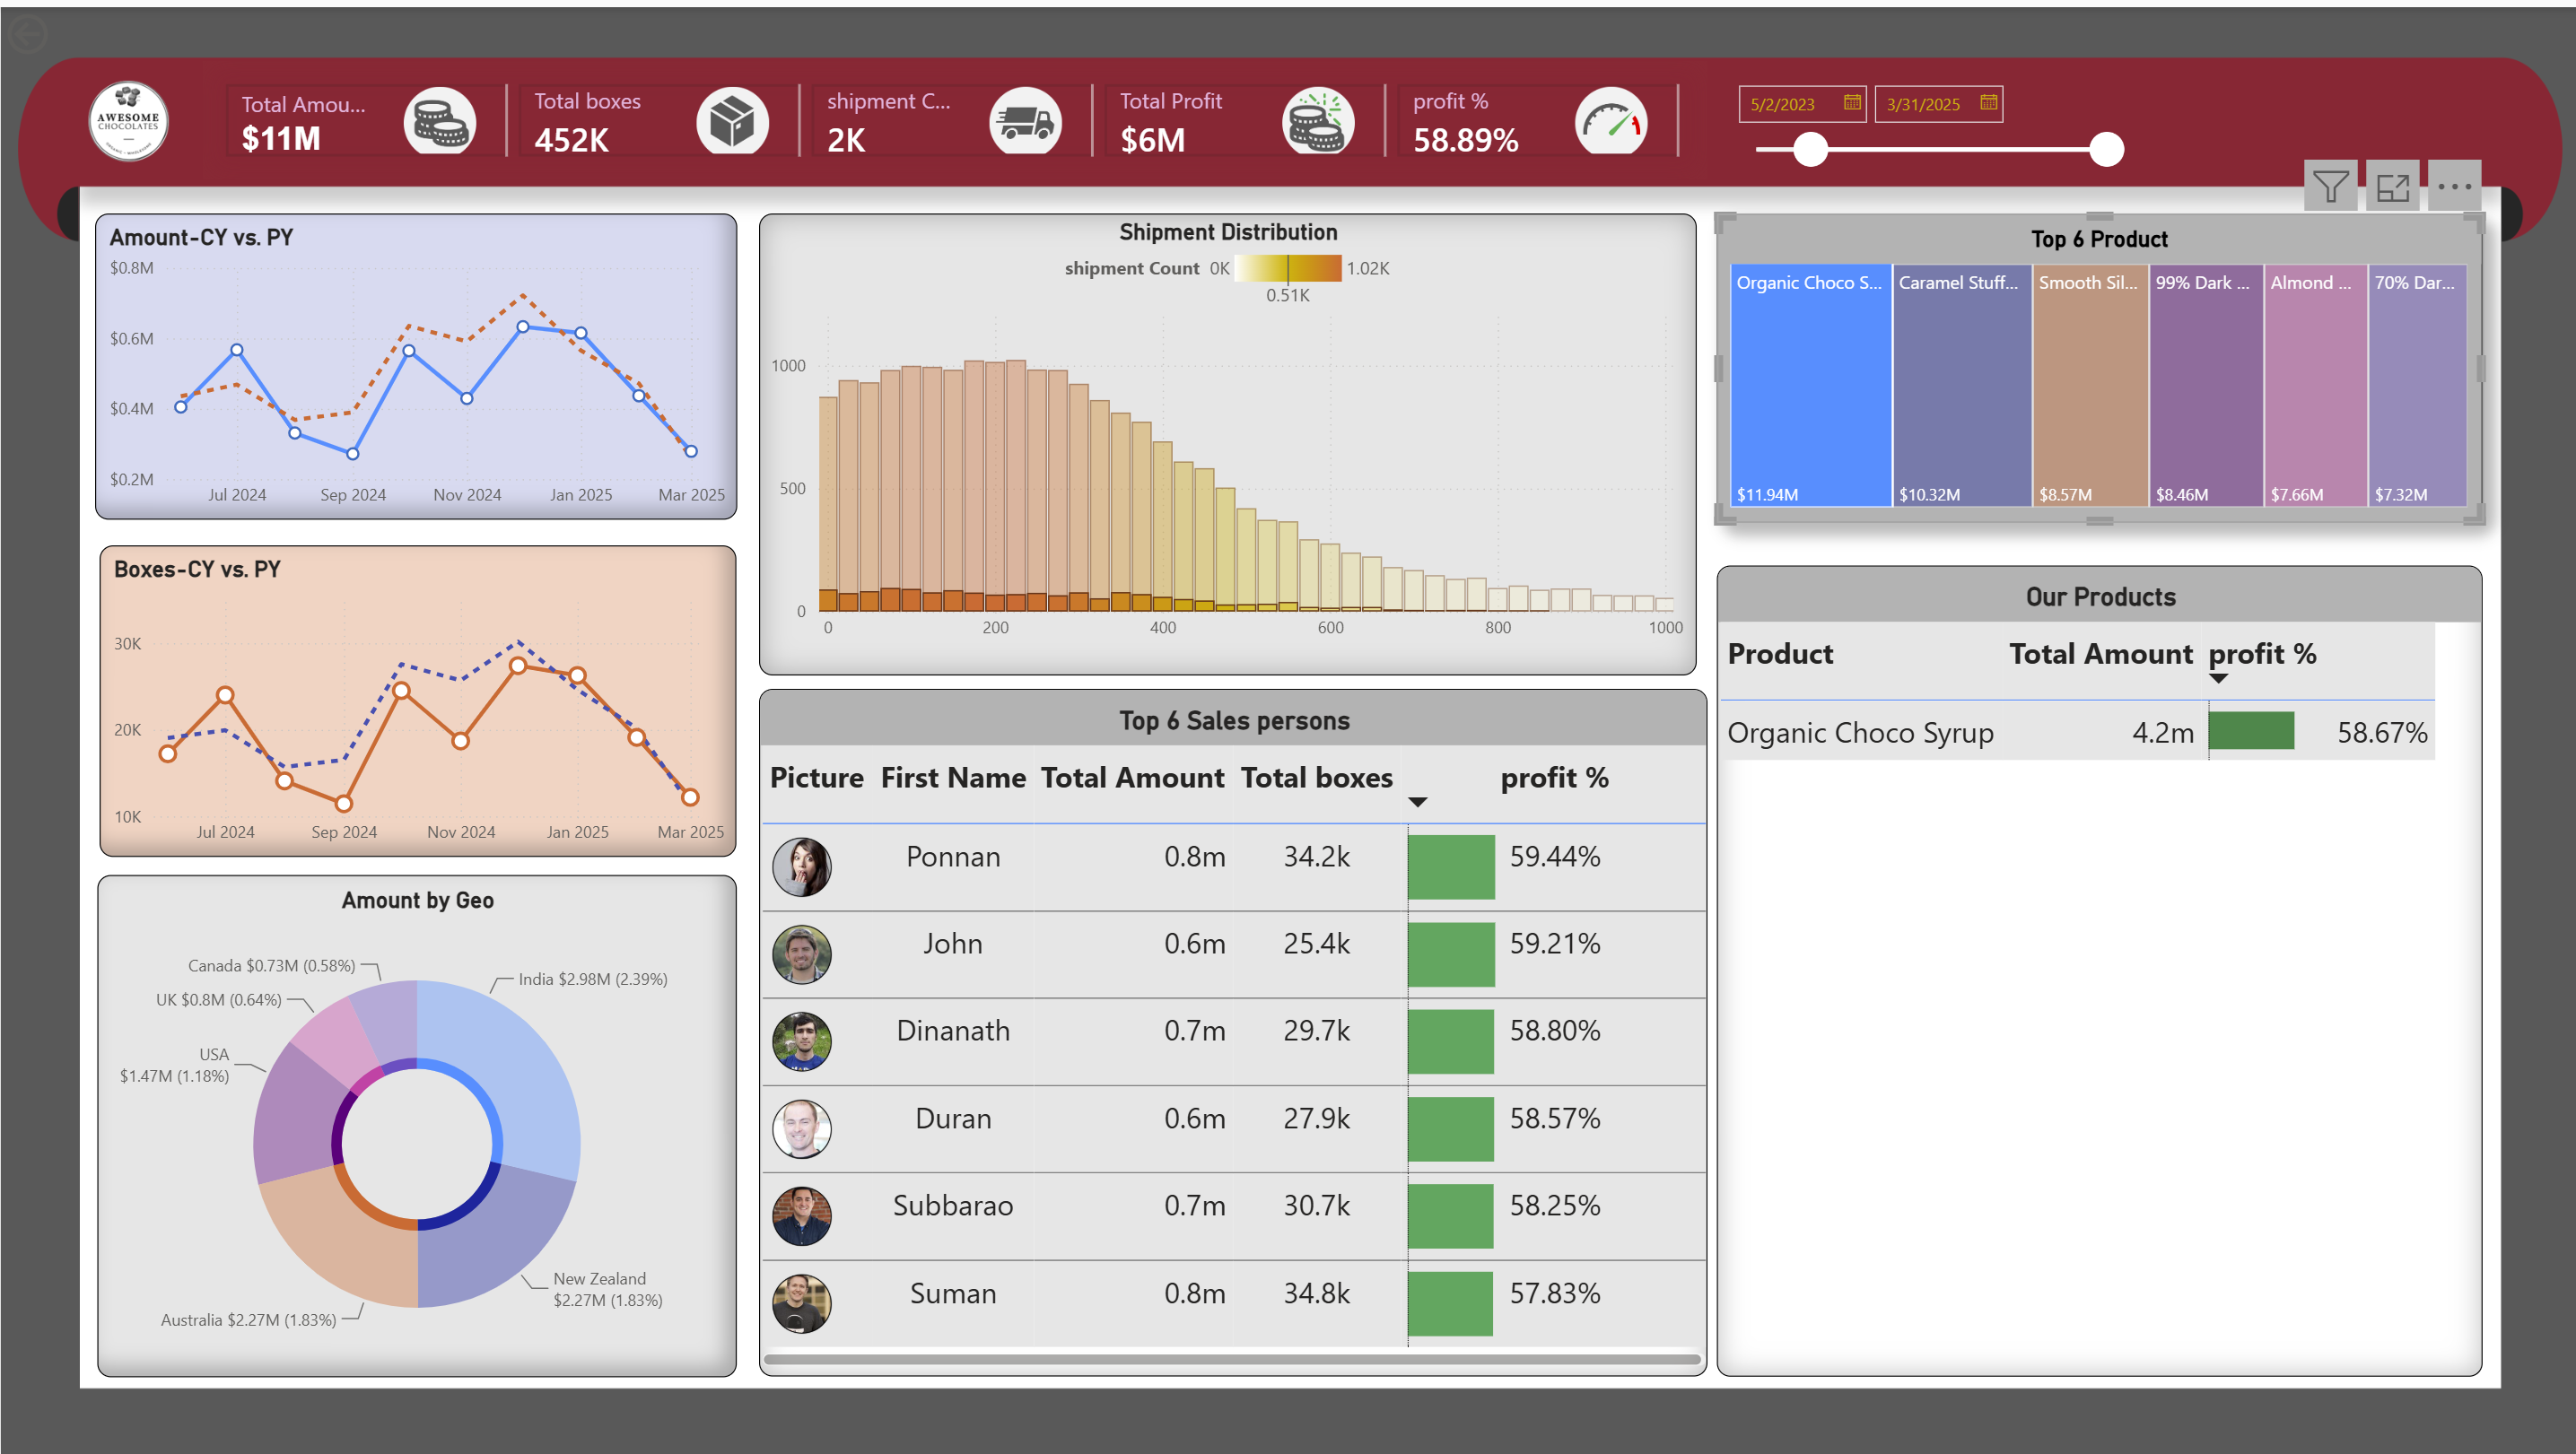

The page's visual inventory and layout, read from the dashboard file:
{"tool":"powerbi","page":{"name":"Page 8","canvas":[1920,1080],"ordinal":7},"visuals":[{"type":"lineChart","title":"Amount-CY vs. PY","fields":{"Y":["shipments.Total Amount","shipments.Total amount(last year)"],"Category":["calendar.Start of Month"]},"box":[70,154,478,228],"z":0},{"type":"lineChart","title":"Boxes-CY vs. PY","fields":{"Category":["calendar.Start of Month"],"Y":["shipments.Total boxes","calendar.Total Boxes(last year)"]},"box":[74,400,474,232],"z":1000},{"type":"donutChart","title":"Amount by Geo","fields":{"Category":["locations.Geo"],"Y":["shipments.Total Amount"]},"box":[72,646,476,374],"z":2000},{"type":"clusteredColumnChart","title":"Shipment Distribution","fields":{"Category":["shipments.Boxes (bins)"],"Y":["shipments.shipment Count"]},"box":[564,154,698,344],"z":3000},{"type":"tableEx","title":"Top 6 Sales persons","fields":{"Values":["people.Picture","people.First Name","shipments.Total Amount","shipments.Total boxes","shipments.profit %"]},"box":[564,508,706,512],"z":4000},{"type":"treemap","title":"Top 6 Product","fields":{"Values":["shipments.Total Amount"],"Group":["products.Product"]},"box":[1278,154,570,230],"z":5000},{"type":"actionButton","box":[0,0,100,40],"z":6000},{"type":"tableEx","title":"Our Products","fields":{"Values":["products.Product","shipments.Total Amount","shipments.profit %"]},"box":[1278,416,570,604],"z":7000},{"type":"cardVisual","fields":{"Data":["shipments.Total Amount","shipments.Total boxes","shipments.shipment Count","shipments.Total Profit","shipments.profit %"]},"box":[150,40,1120,88],"z":8000},{"type":"slicer","fields":{"Values":["calendar.cal_date"]},"box":[1280,48,308,72],"z":9000}]}

Visuals, with their boxes in screenshot pixels (x1, y1, x2, y2), scaled from the page's 1920x1080 canvas onto the 2576x1454 screenshot:
"Amount-CY vs. PY" lineChart: {"x1": 94, "y1": 207, "x2": 735, "y2": 514}
"Boxes-CY vs. PY" lineChart: {"x1": 100, "y1": 538, "x2": 735, "y2": 851}
"Amount by Geo" donutChart: {"x1": 97, "y1": 870, "x2": 735, "y2": 1373}
"Shipment Distribution" clusteredColumnChart: {"x1": 756, "y1": 207, "x2": 1693, "y2": 670}
"Top 6 Sales persons" tableEx: {"x1": 756, "y1": 683, "x2": 1704, "y2": 1373}
"Top 6 Product" treemap: {"x1": 1715, "y1": 207, "x2": 2479, "y2": 517}
actionButton: {"x1": 0, "y1": 0, "x2": 135, "y2": 54}
"Our Products" tableEx: {"x1": 1715, "y1": 560, "x2": 2479, "y2": 1373}
cardVisual - shipments.Total Amount x shipments.Total boxes: {"x1": 201, "y1": 54, "x2": 1704, "y2": 172}
slicer - calendar.cal_date: {"x1": 1717, "y1": 65, "x2": 2131, "y2": 161}
